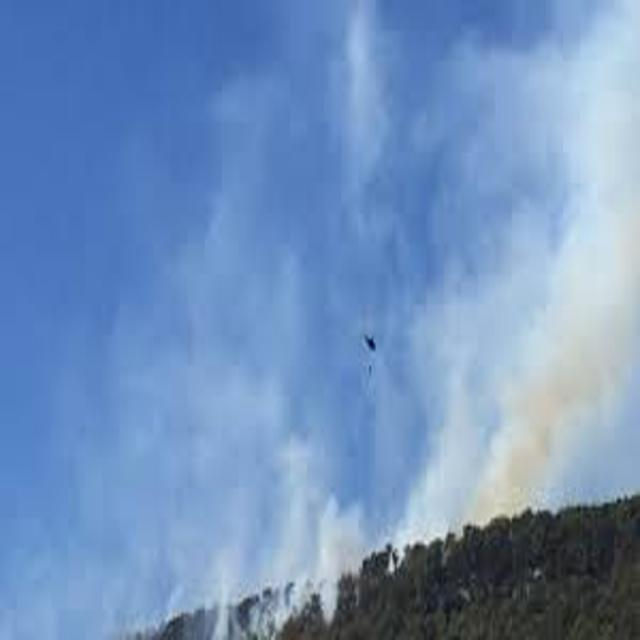Smoke: (462, 250, 640, 539), (140, 496, 378, 640), (545, 0, 640, 245), (368, 354, 457, 556)
